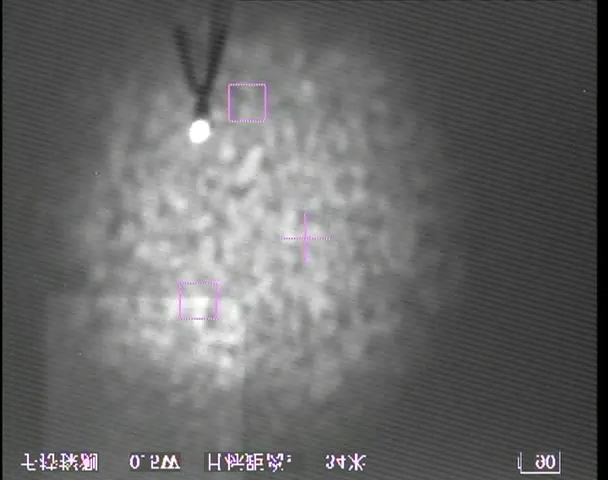my: (187, 118, 212, 144)
